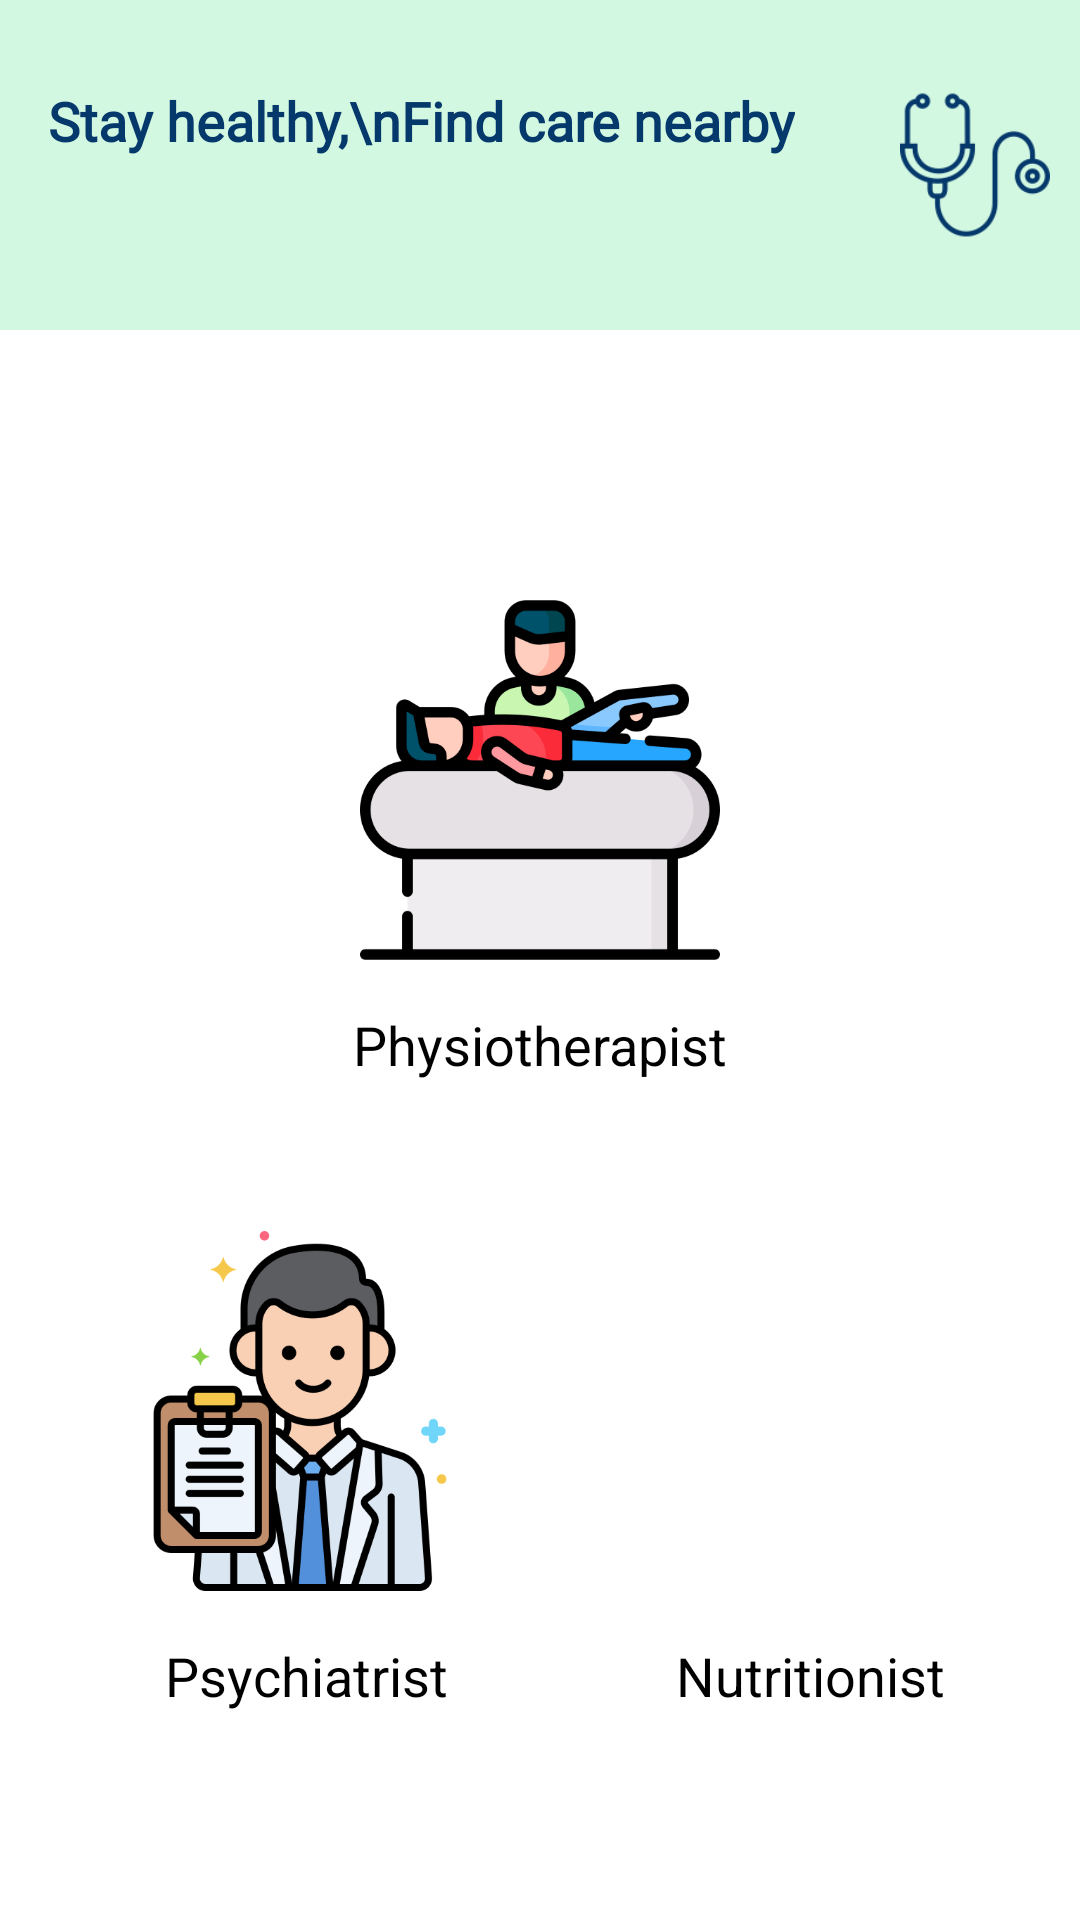

Where icons sit on this 1080px×1920px app screen, as [x1=x1, y1=y1, x2=x2, y2=y2]:
stethoscope: [x1=900, y1=93, x2=1050, y2=237]
